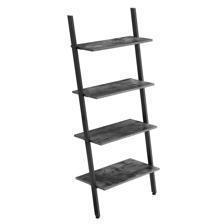Feet: (12, 55, 207, 186)
